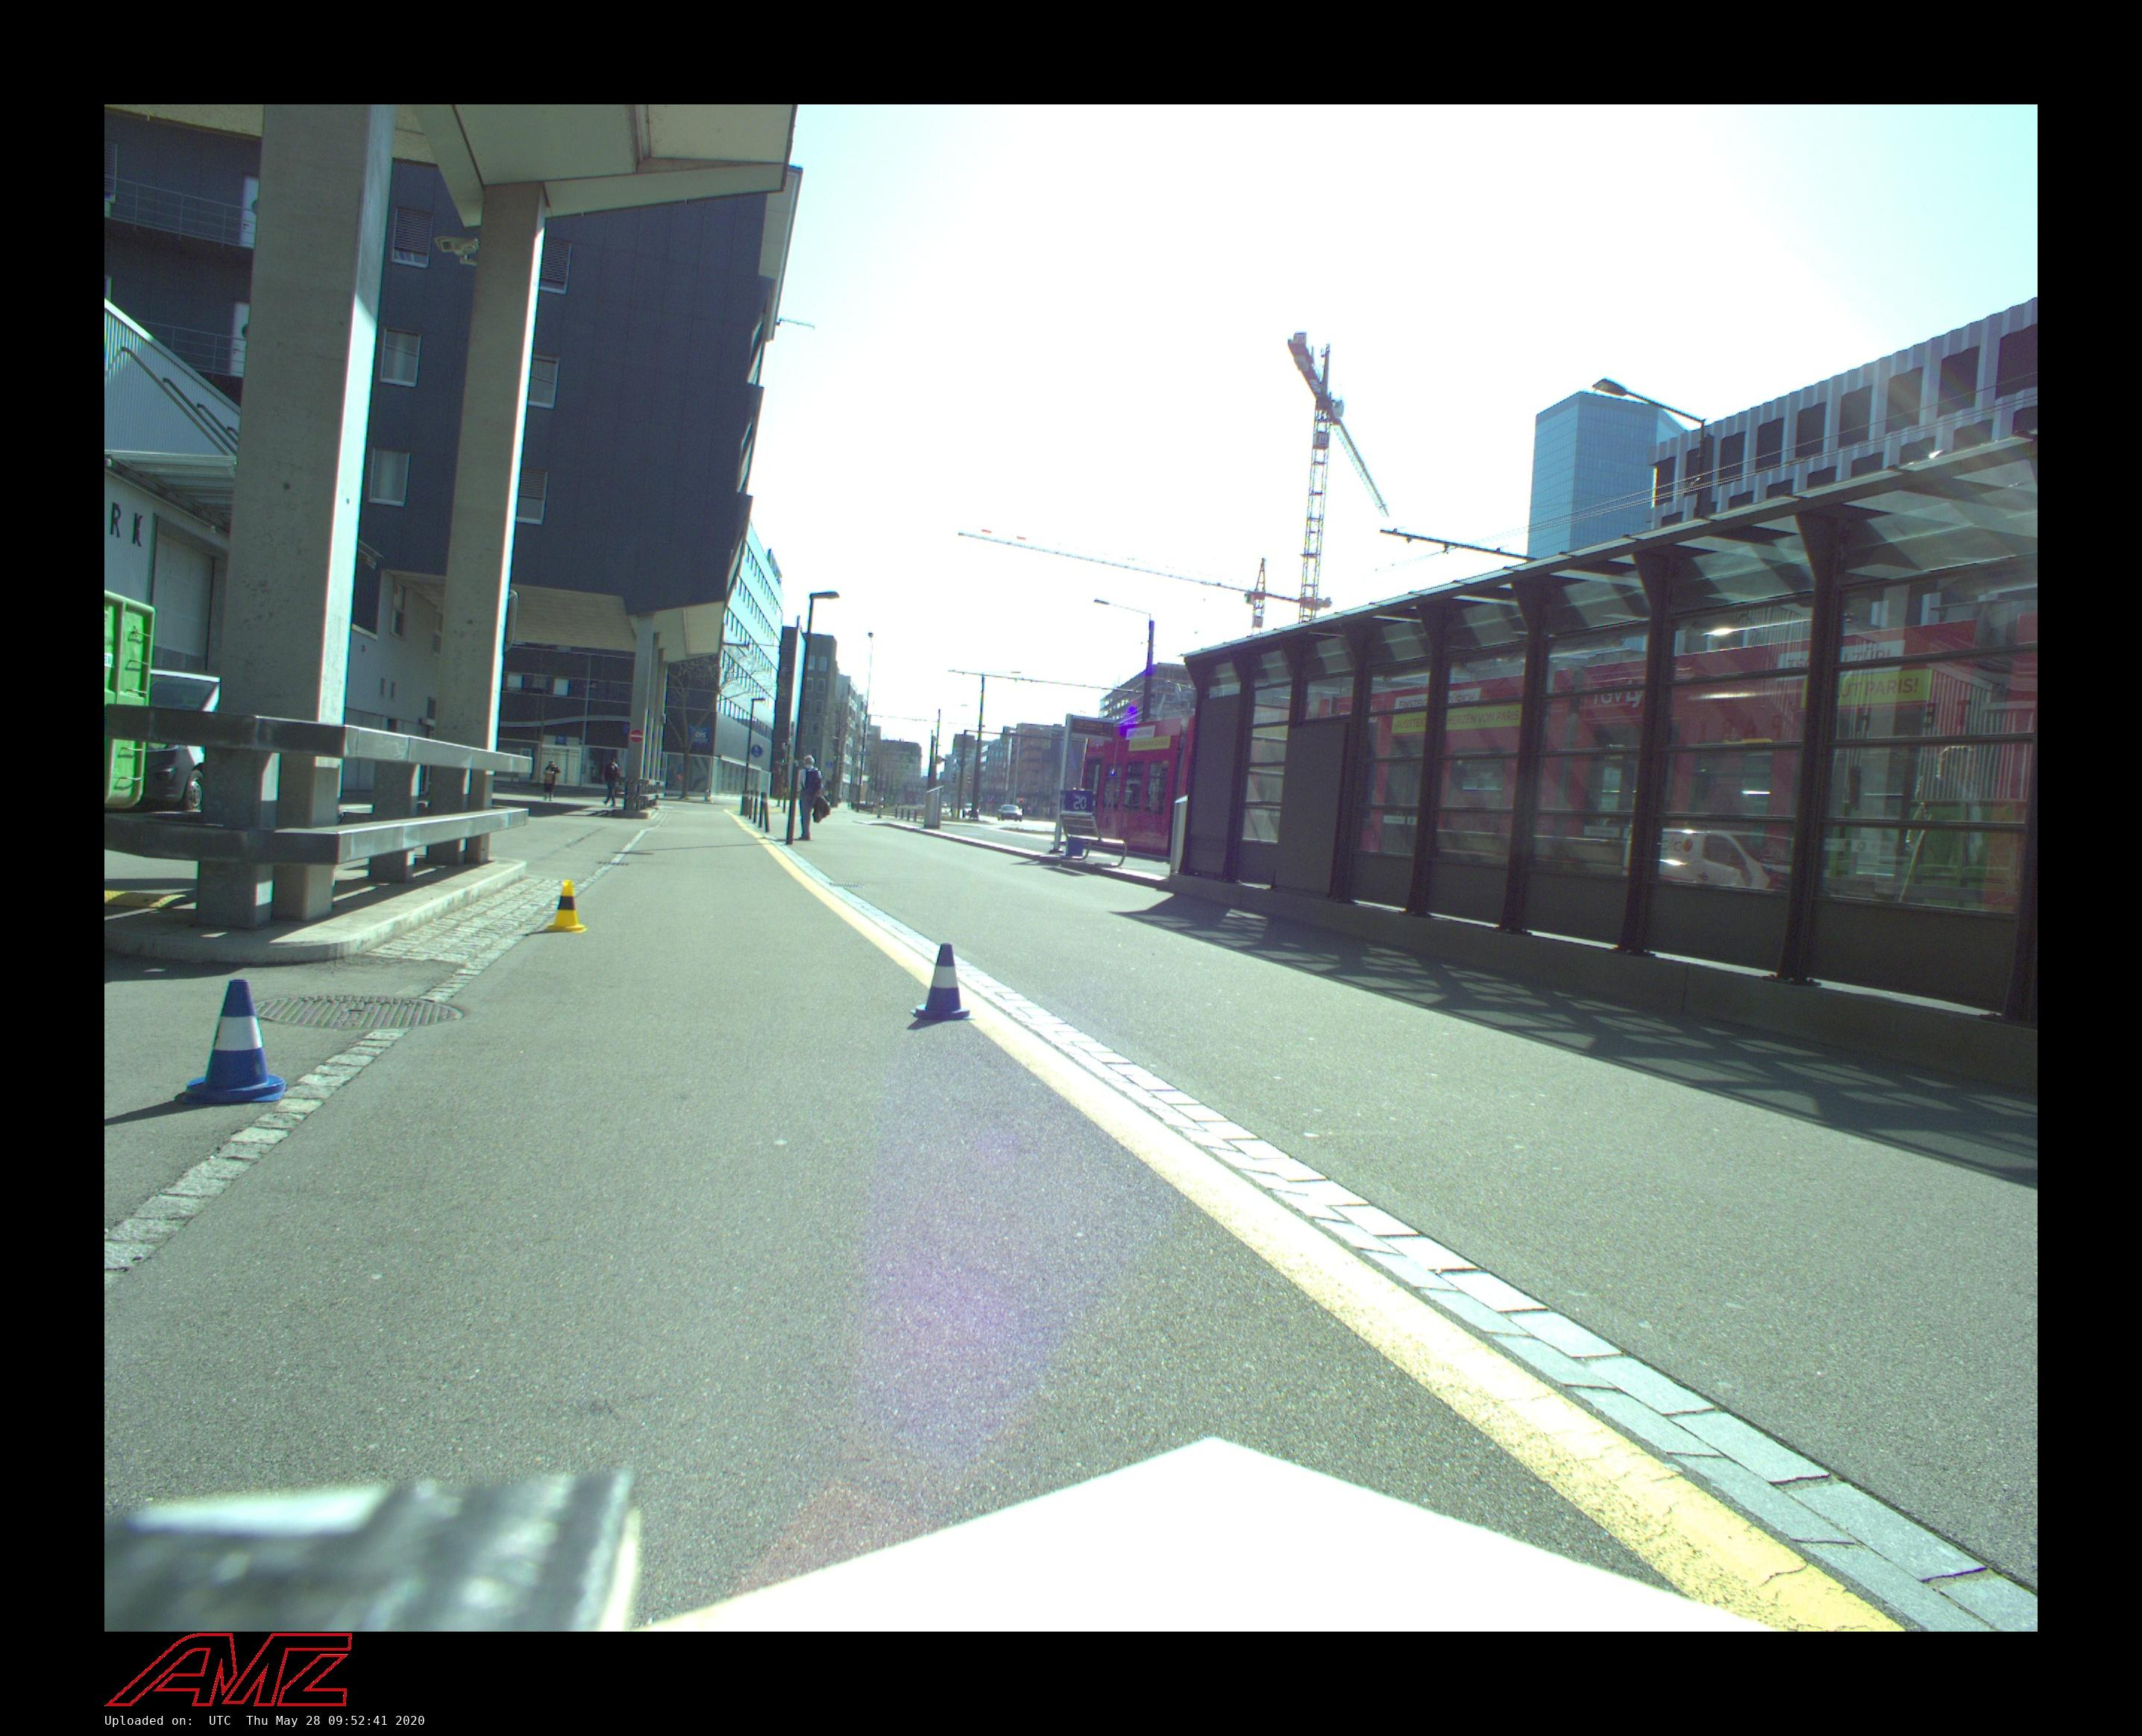blue_cone: (180, 980, 287, 1102), (910, 943, 978, 1020)
yellow_cone: (545, 881, 587, 933)
